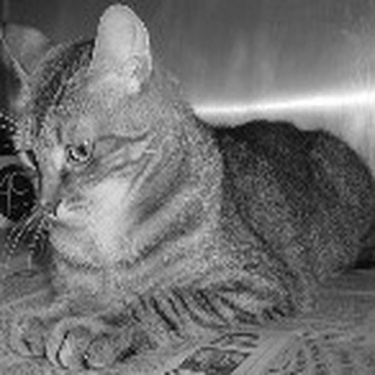cat: (4, 5, 370, 373)
